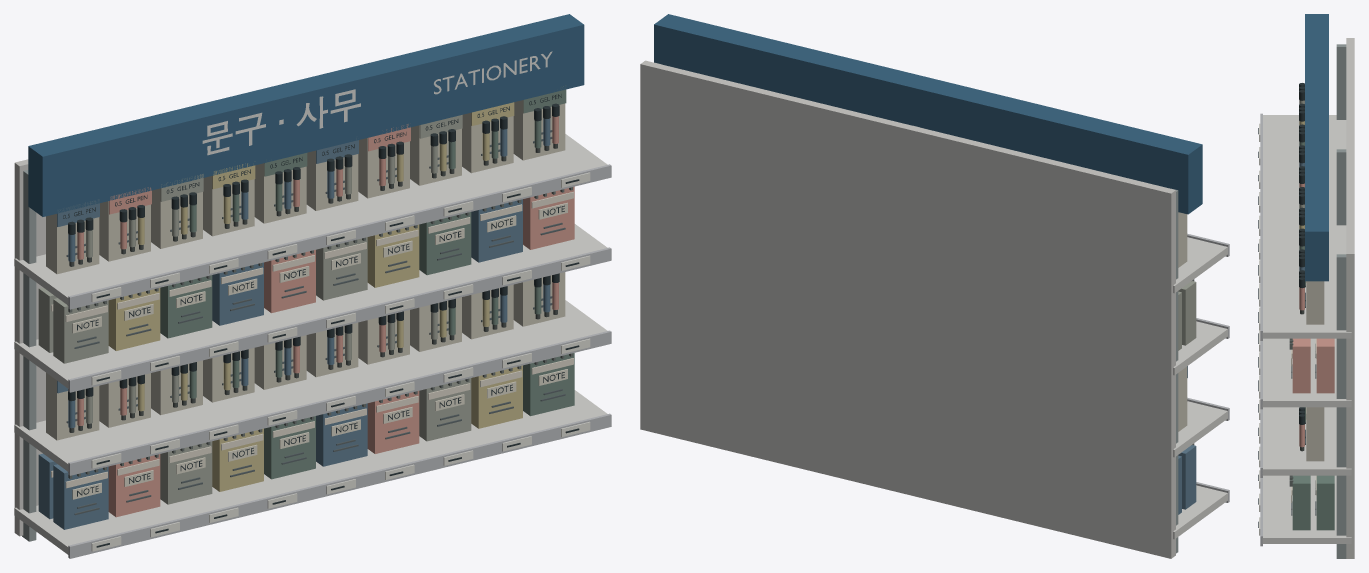
Rendered from PaperGoods.glb.
3 views of the same model, side by side, from view 1: azimuth 30°, elevation 25°; view 2: azimuth 150°, elevation 25°; view 3: azimuth 270°, elevation 25° (orthographic). The views are drawn at different scales.
Parts seen in each view (by area): view 1: PaperGoods; view 2: PaperGoods; view 3: PaperGoods.
Part boxes in pixels (x1=…): PaperGoods: x1=14, y1=14, x2=611, y2=558; PaperGoods: x1=640, y1=14, x2=1229, y2=558; PaperGoods: x1=1258, y1=14, x2=1354, y2=558.
Size of the model in its own units: 3 by 2.12 by 0.562.
